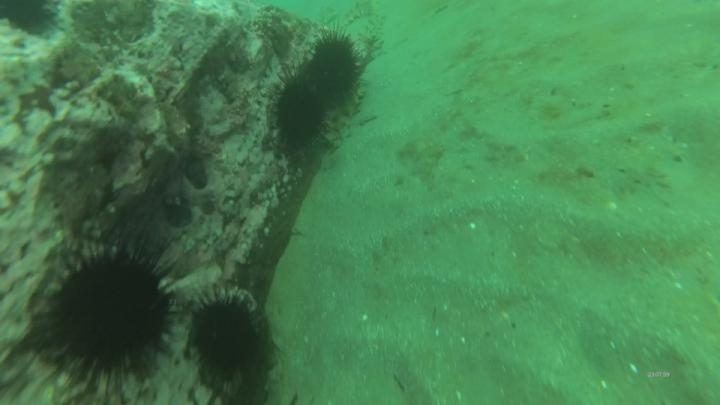echinus: (32, 250, 167, 398), (184, 275, 280, 390), (264, 59, 333, 161), (304, 21, 370, 122)
